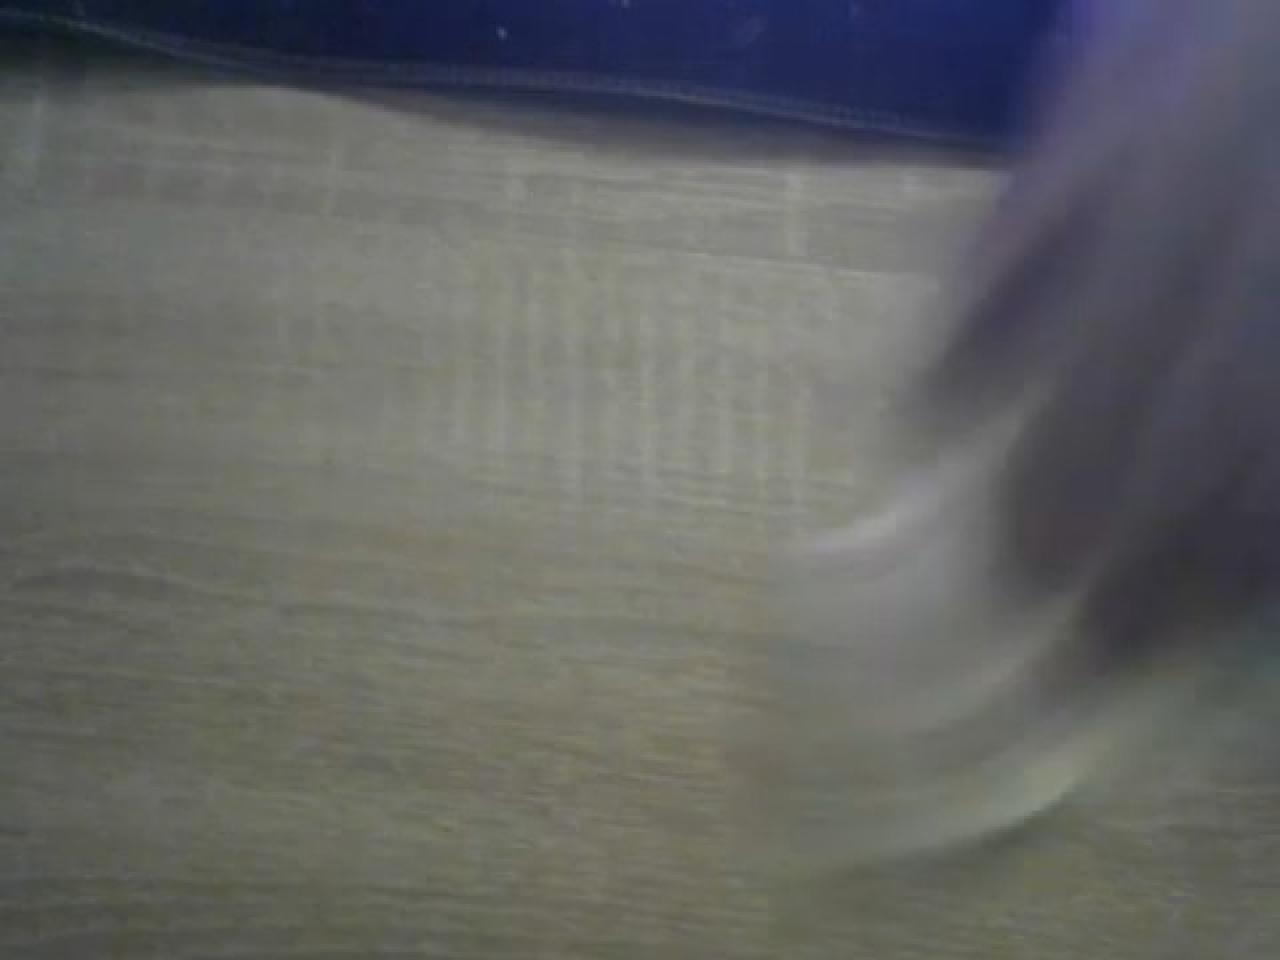10leva: (715, 0, 1277, 874)
